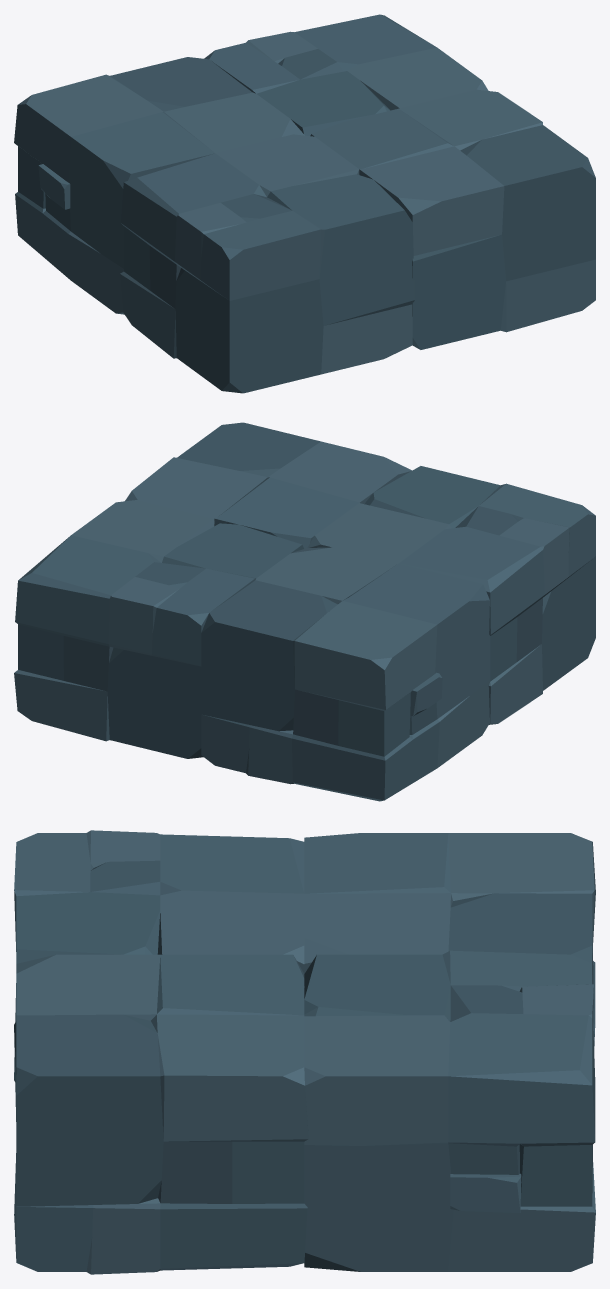
File: platform_floor_01.fbx
3 renders of one model, top to bottom at view 1: azimuth 30°, elevation 25°; view 2: azimuth 150°, elevation 25°; view 3: azimuth 270°, elevation 25°, orthographic. The views are drawn at different scales.
Parts seen in each view (by area): view 1: platform_floor_01; view 2: platform_floor_01; view 3: platform_floor_01.
Boxes of the visible parts, x1=… form: platform_floor_01: x1=14, y1=14, x2=595, y2=393; platform_floor_01: x1=14, y1=422, x2=595, y2=801; platform_floor_01: x1=14, y1=830, x2=595, y2=1274.
Bounding box in the file's own units: 827 × 317 × 808.
